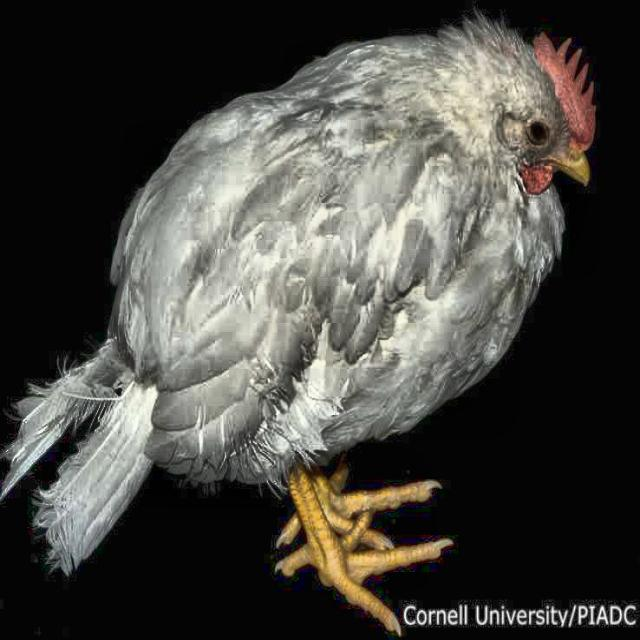Newcastle: (1, 2, 616, 631)
